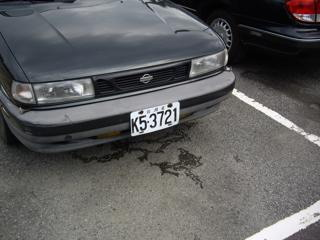plate: (127, 103, 179, 138)
